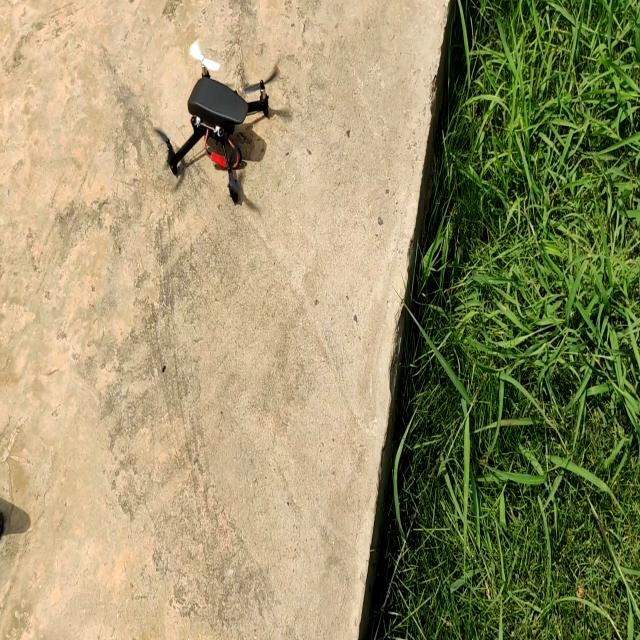drone: (153, 34, 290, 231)
